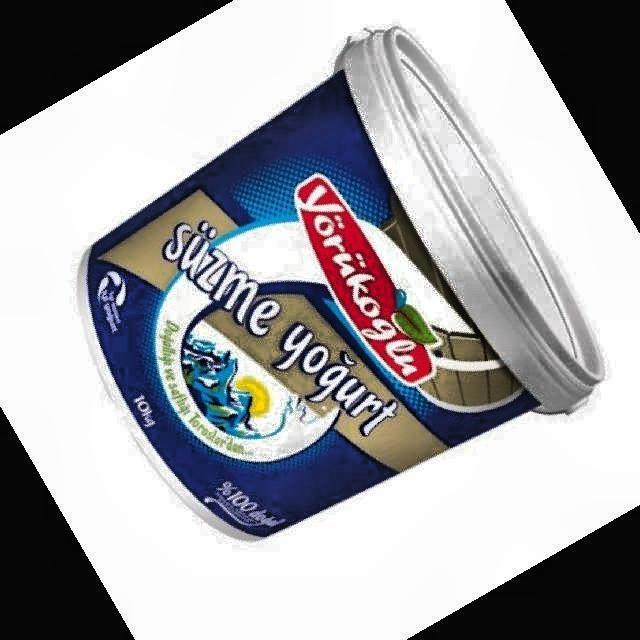plastic: (81, 29, 602, 538)
